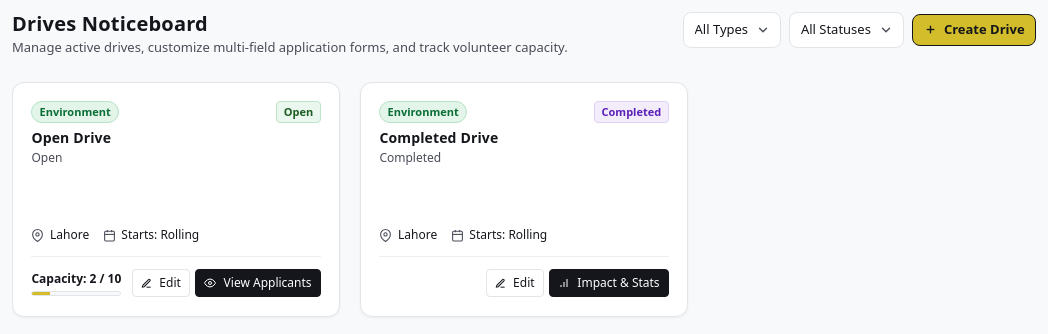
Test: YouthRepublicOpportunitiesPage › filters drives by status dropdown
The image size is (1048, 334).
Check: the text "Open Drive" is shown, box [31,129,111,146]
Check: the text "Completed Drive" is shown, box [379,129,498,146]
Select Completed status
Click the dropdown named "Filter by status": x=847, y=30 [790,12,904,48]
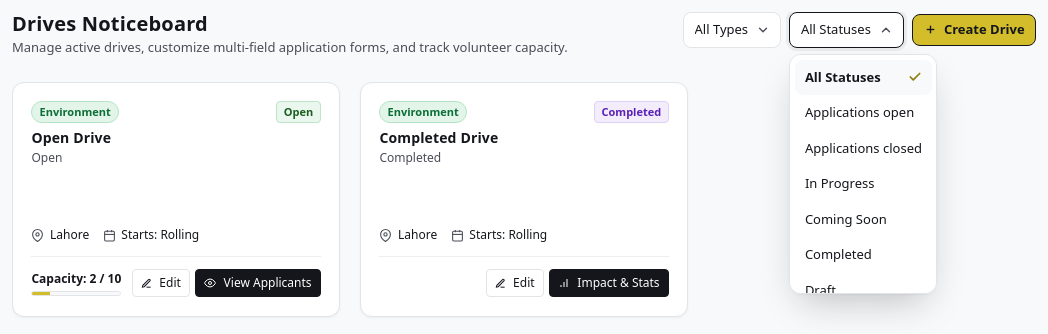
Click the option "Completed": x=863, y=255 [795,237,932,273]
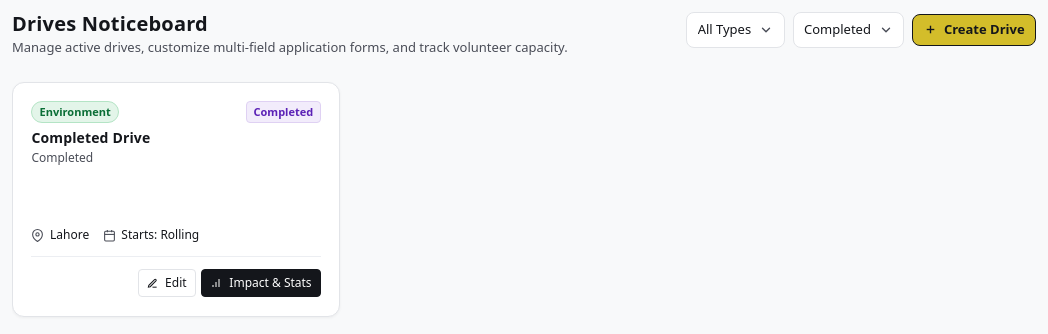
Check: the text "Completed Drive" is shown, box [31,129,150,146]
Check: the text "Open Drive" is gone
